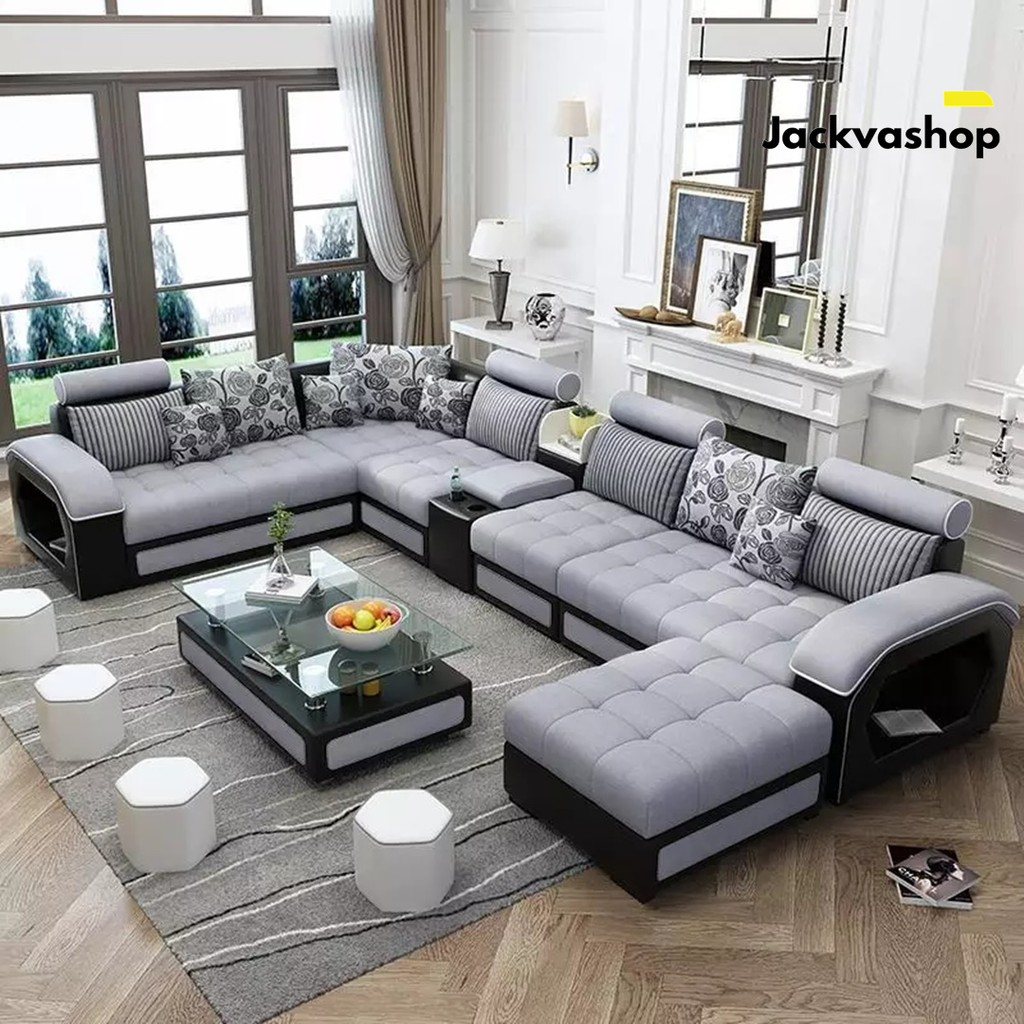bantal: (673, 441, 799, 554), (331, 343, 450, 424), (186, 359, 295, 430), (732, 500, 799, 586), (165, 399, 228, 461), (417, 373, 463, 436), (302, 377, 358, 426)
buku: (876, 839, 1001, 919), (241, 570, 304, 603)
lampu: (456, 210, 523, 328), (538, 82, 605, 190)
lukisan: (673, 181, 749, 331)
meja: (167, 563, 488, 760)
sova: (492, 461, 1016, 861), (26, 354, 487, 574)
tanaman: (151, 234, 228, 357), (20, 268, 115, 361), (298, 214, 369, 338), (262, 500, 298, 588)
